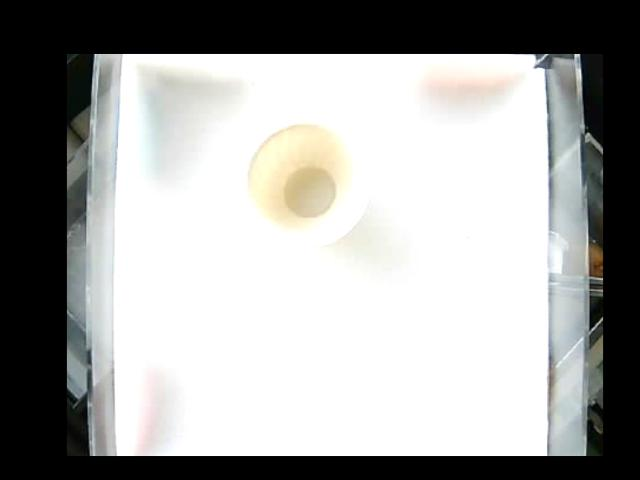Cup: (245, 120, 368, 244)
